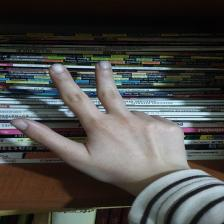three: (13, 61, 195, 173)
